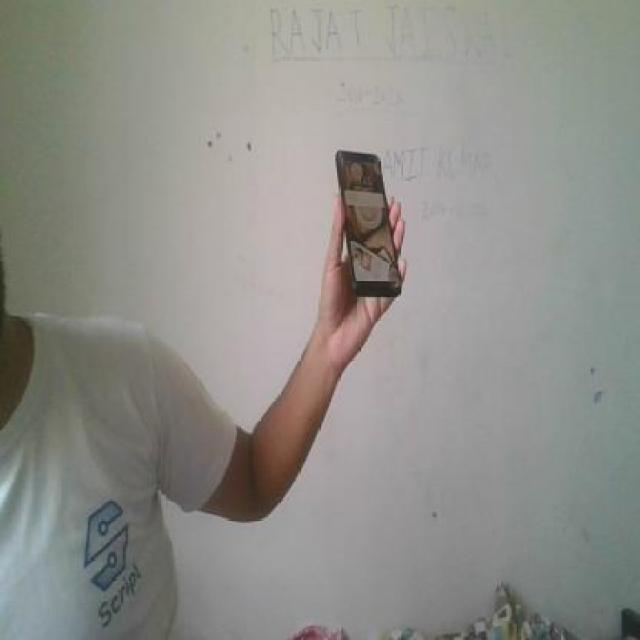Phone: (332, 147, 404, 300)
